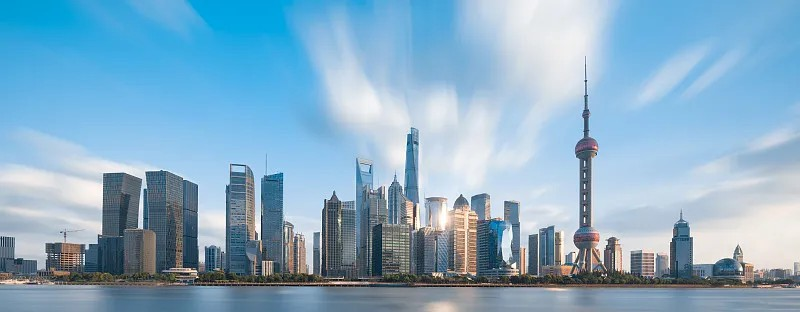Oriental: (570, 55, 608, 273)
